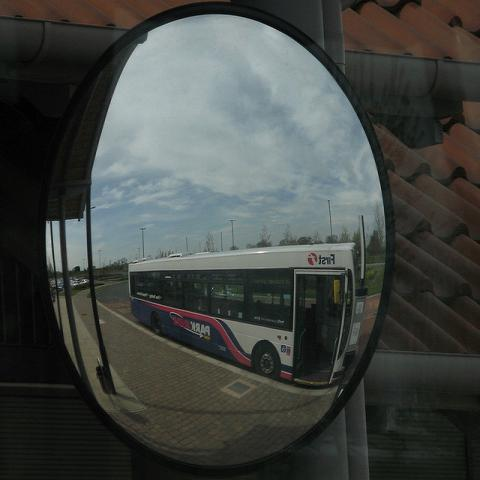bus: (129, 242, 367, 381)
